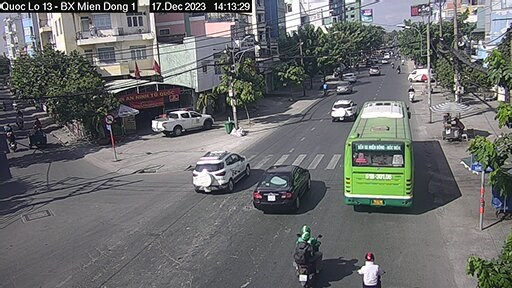bus: (350, 100, 415, 212)
car: (252, 159, 311, 212), (192, 148, 243, 190), (155, 112, 213, 135), (330, 98, 359, 124), (403, 67, 438, 82), (334, 80, 352, 96), (366, 66, 383, 77)
motorbike: (290, 223, 326, 284)
